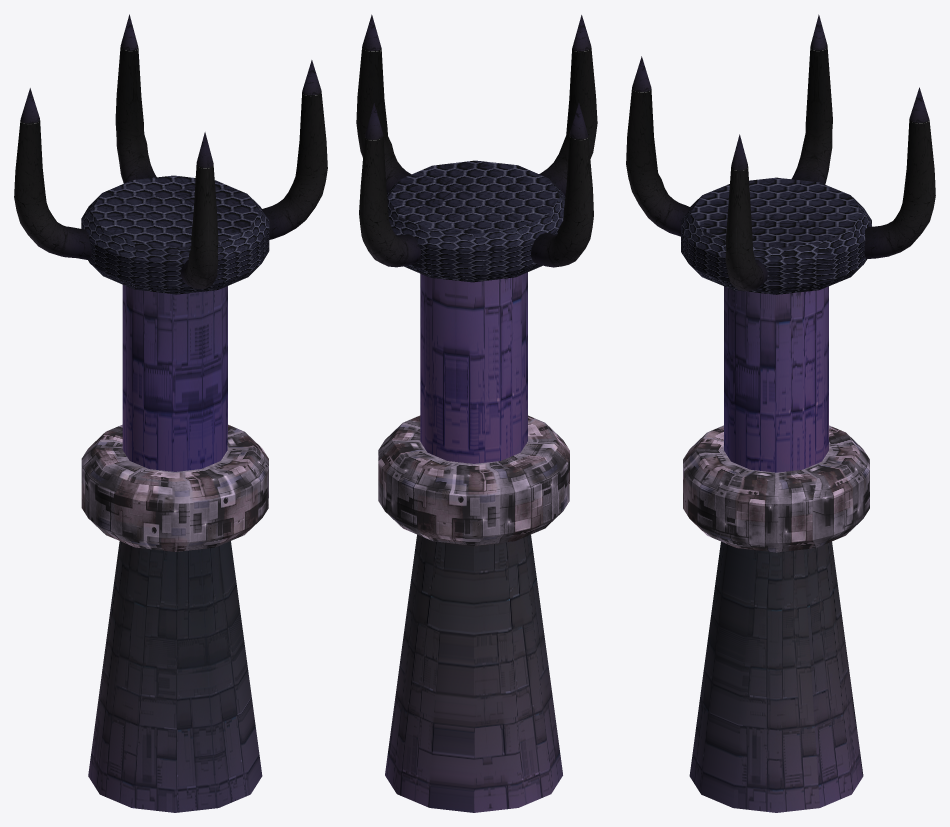
File: Tower_central.fbx
3 renders of one model, left to right at view 1: azimuth 30°, elevation 25°; view 2: azimuth 150°, elevation 25°; view 3: azimuth 270°, elevation 25°, orthographic. The views are drawn at different scales.
Visible parts, largest first — view 1: pCylinder5; view 2: pCylinder5; view 3: pCylinder5.
Part boxes in pixels (left/top/right/bottom): pCylinder5: left=14, top=14, right=327, bottom=812; pCylinder5: left=356, top=14, right=597, bottom=812; pCylinder5: left=626, top=14, right=935, bottom=812.
Bounding box in the file's own units: 813 × 2027 × 811.
